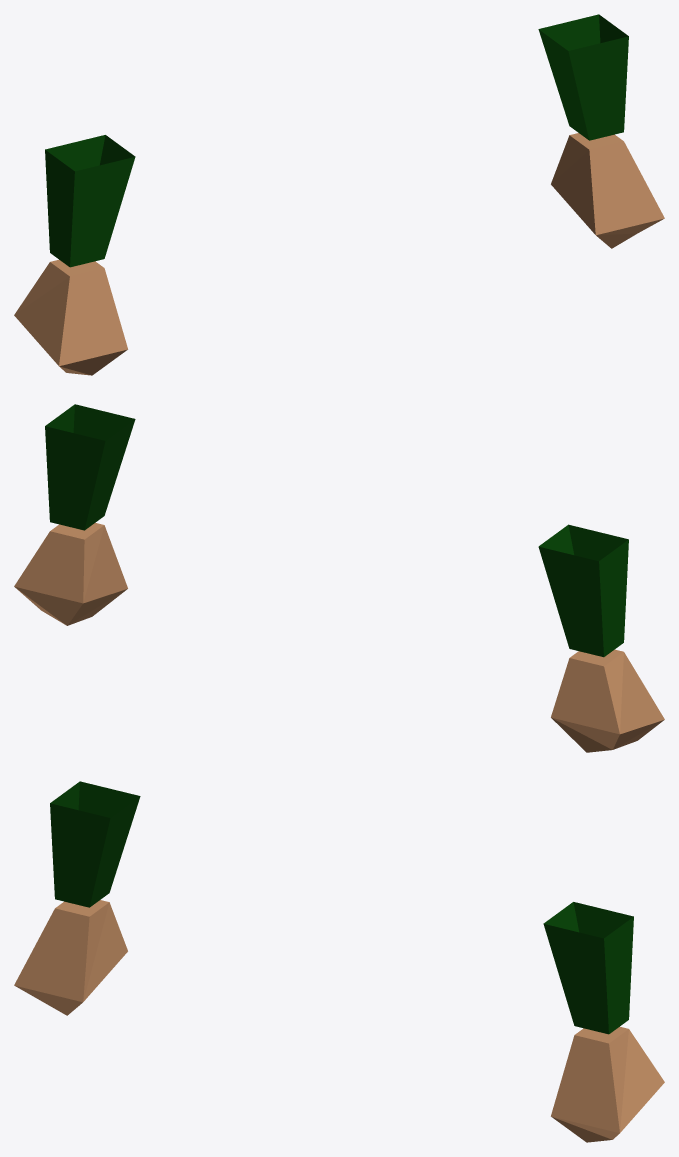
File: model_178_obj_wear.obj
3 views of the same model, one above another, from view 1: azimuth 30°, elevation 25°; view 2: azimuth 150°, elevation 25°; view 3: azimuth 330°, elevation 25° (orthographic).
Parts seen in each view (by area): view 1: 178; view 2: 178; view 3: 178.
Boxes of the visible parts, box(x1,y1,x2,y2) form: 178: box(14, 14, 664, 375); 178: box(14, 404, 664, 752); 178: box(14, 781, 664, 1142).
Size of the model in its own units: 70 by 23 by 9.
